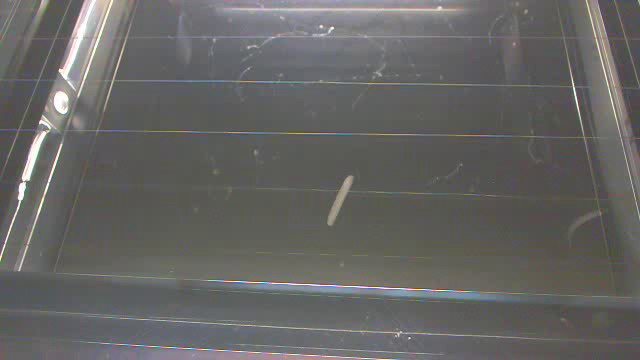alpha: (324, 170, 356, 227), (564, 204, 608, 242)
